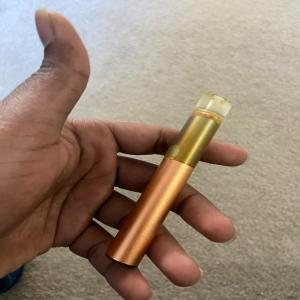Golden-E-Ciggirate: (97, 86, 242, 273)
